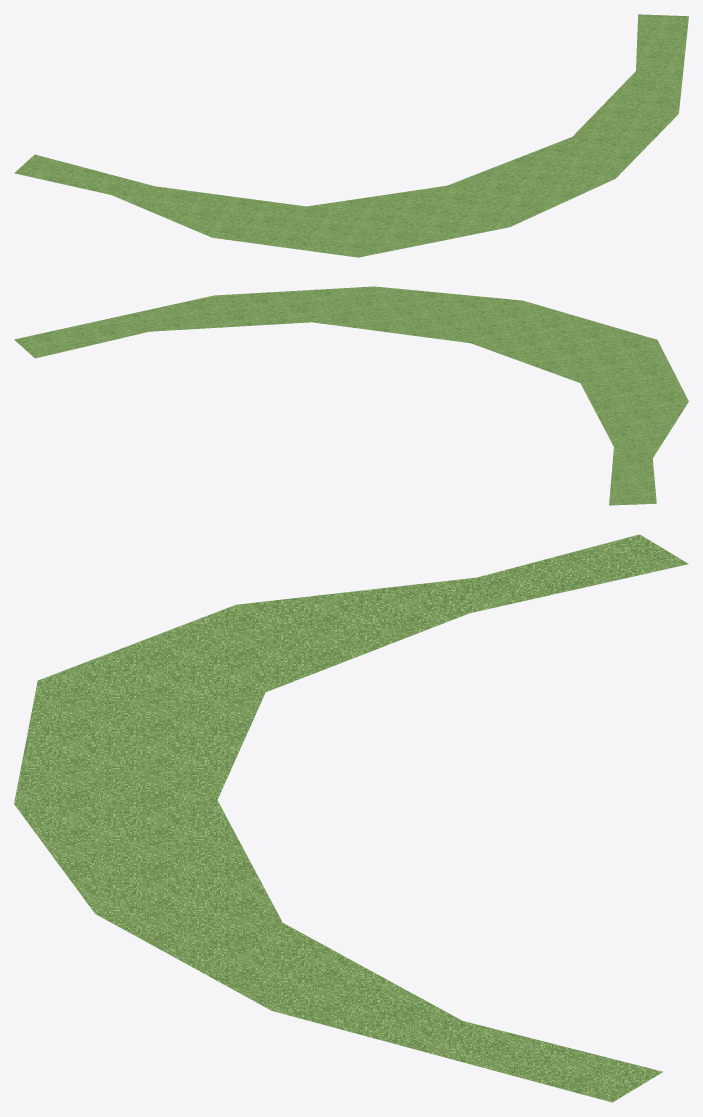
File: kd_connection_town-ground_surface_5_70.glb
3 renders of one model, top to bottom at view 1: azimuth 30°, elevation 25°; view 2: azimuth 150°, elevation 25°; view 3: azimuth 270°, elevation 25°, orthographic. The views are drawn at different scales.
Parts seen in each view (by area): view 1: kd_connection_town-ground_surface_5_70; view 2: kd_connection_town-ground_surface_5_70; view 3: kd_connection_town-ground_surface_5_70.
Boxes of the visible parts, left/top/right/bottom form: kd_connection_town-ground_surface_5_70: left=14, top=14, right=688, bottom=257; kd_connection_town-ground_surface_5_70: left=14, top=286, right=688, bottom=505; kd_connection_town-ground_surface_5_70: left=14, top=534, right=688, bottom=1102.
Bounding box in the file's own units: 27.09 × 9.54e-07 × 13.6.
Materials: 1 (1 with a texture image).
